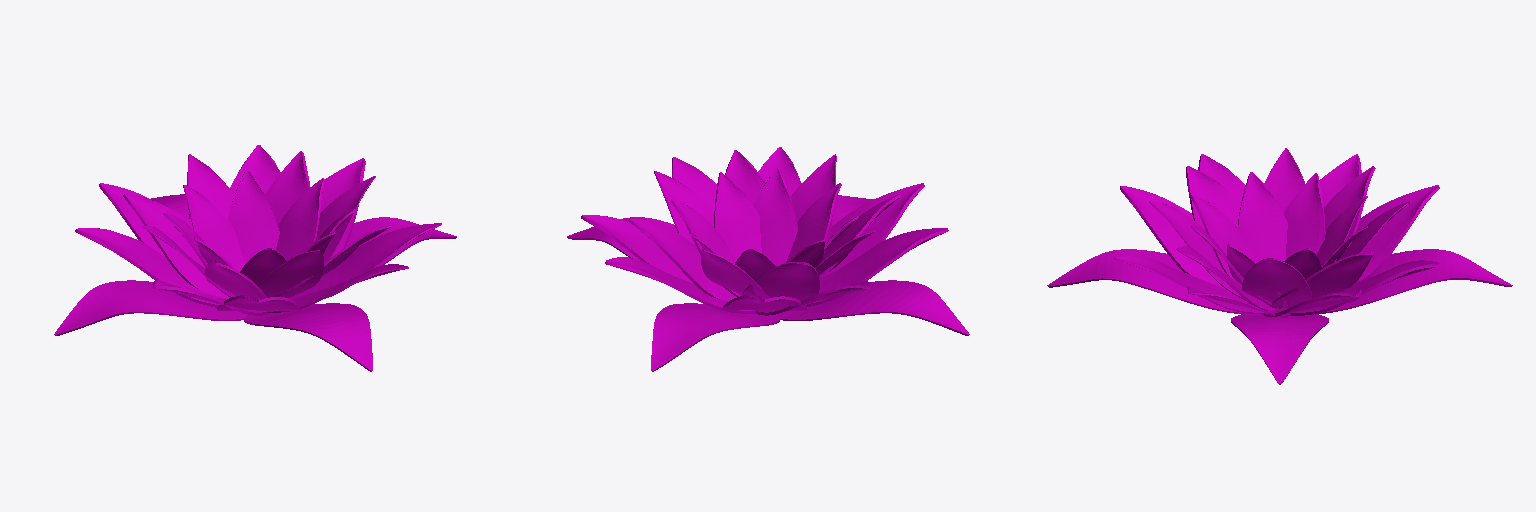
The model's file is Lotus.obj.
3 views of the same model, side by side, from view 1: azimuth 30°, elevation 25°; view 2: azimuth 150°, elevation 25°; view 3: azimuth 270°, elevation 25° (orthographic).
Parts seen in each view (by area): view 1: Plane.015, Plane.016, Plane.039, Plane.027, Plane.012, Plane.020, Plane.038, Plane.032, Plane.031, Plane.024, Plane.029, Plane.028 (+11 smaller); view 2: Plane.015, Plane.014, Plane.034, Plane.018, Plane.033, Plane.024, Plane.019, Plane.022, Plane.027, Plane.035, Plane.023, Plane.029 (+14 smaller); view 3: Plane.013, Plane.016, Plane.014, Plane.036, Plane.021, Plane.037, Plane.019, Plane.029, Plane.024, Plane.035, Plane.017, Plane.026 (+12 smaller).
Boxes of the visible parts, box(x1,y1,x2,y2) form: Plane.015: box(54, 280, 247, 335); Plane.016: box(243, 303, 372, 371); Plane.039: box(228, 169, 279, 262); Plane.027: box(123, 194, 229, 298); Plane.012: box(289, 223, 441, 298); Plane.020: box(75, 228, 226, 307); Plane.038: box(183, 185, 245, 271); Plane.032: box(276, 178, 324, 260); Plane.031: box(258, 250, 323, 297); Plane.024: box(265, 151, 310, 224); Plane.029: box(315, 176, 375, 262); Plane.028: box(187, 154, 234, 222); Plane.015: box(776, 280, 969, 335); Plane.014: box(651, 303, 780, 371); Plane.034: box(753, 168, 797, 265); Plane.018: box(806, 228, 948, 306); Plane.033: box(714, 172, 761, 259); Plane.024: box(628, 219, 736, 301); Plane.019: box(823, 183, 924, 276); Plane.022: box(581, 215, 693, 283); Plane.027: box(743, 262, 819, 300); Plane.035: box(786, 183, 841, 261); Plane.023: box(605, 257, 755, 313); Plane.029: box(654, 171, 713, 243); Plane.013: box(1231, 313, 1328, 384); Plane.016: box(1047, 249, 1243, 313); Plane.014: box(1319, 249, 1512, 313); Plane.036: box(1238, 172, 1287, 261); Plane.021: box(1356, 185, 1439, 281); Plane.037: box(1284, 173, 1325, 258); Plane.019: box(1120, 186, 1224, 288); Plane.029: box(1242, 258, 1311, 306); Plane.024: box(1272, 252, 1373, 308); Plane.035: box(1191, 195, 1257, 279); Plane.017: box(1115, 255, 1263, 314); Plane.026: box(1186, 166, 1240, 228).
Size of the model in its own units: 8.88 by 2.28 by 8.88.